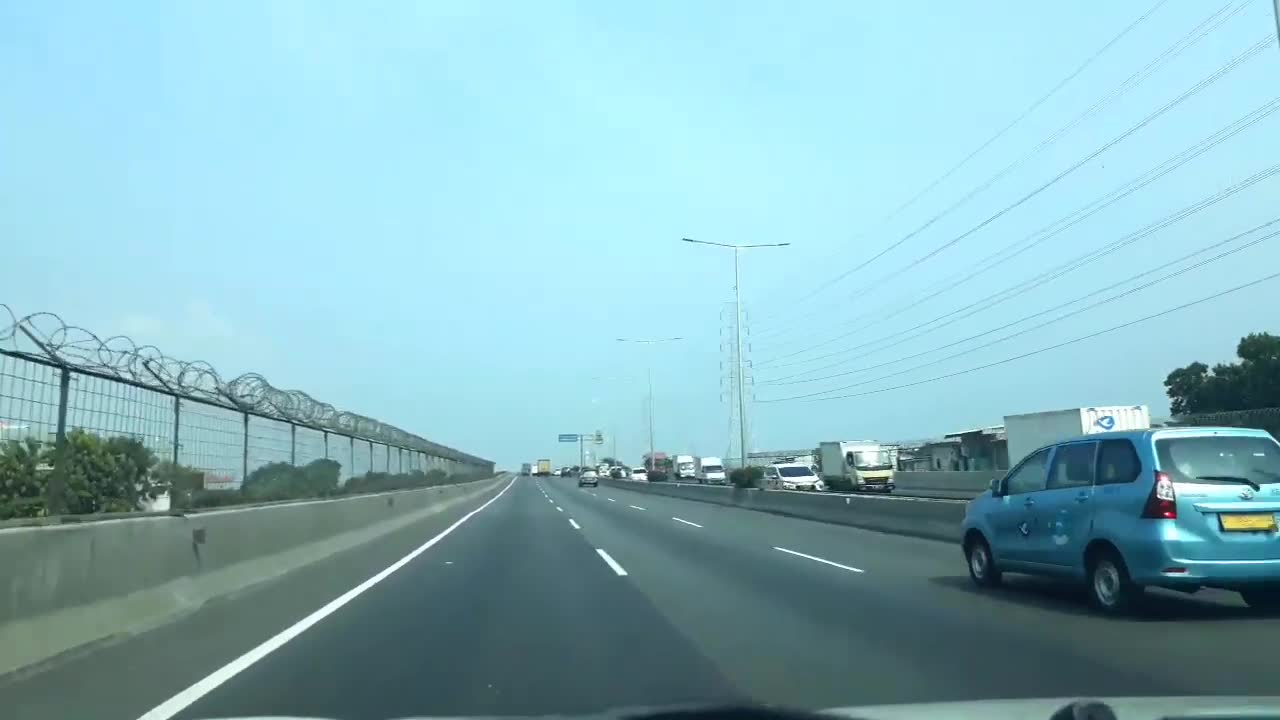plate_positive: (1219, 512, 1276, 532)
